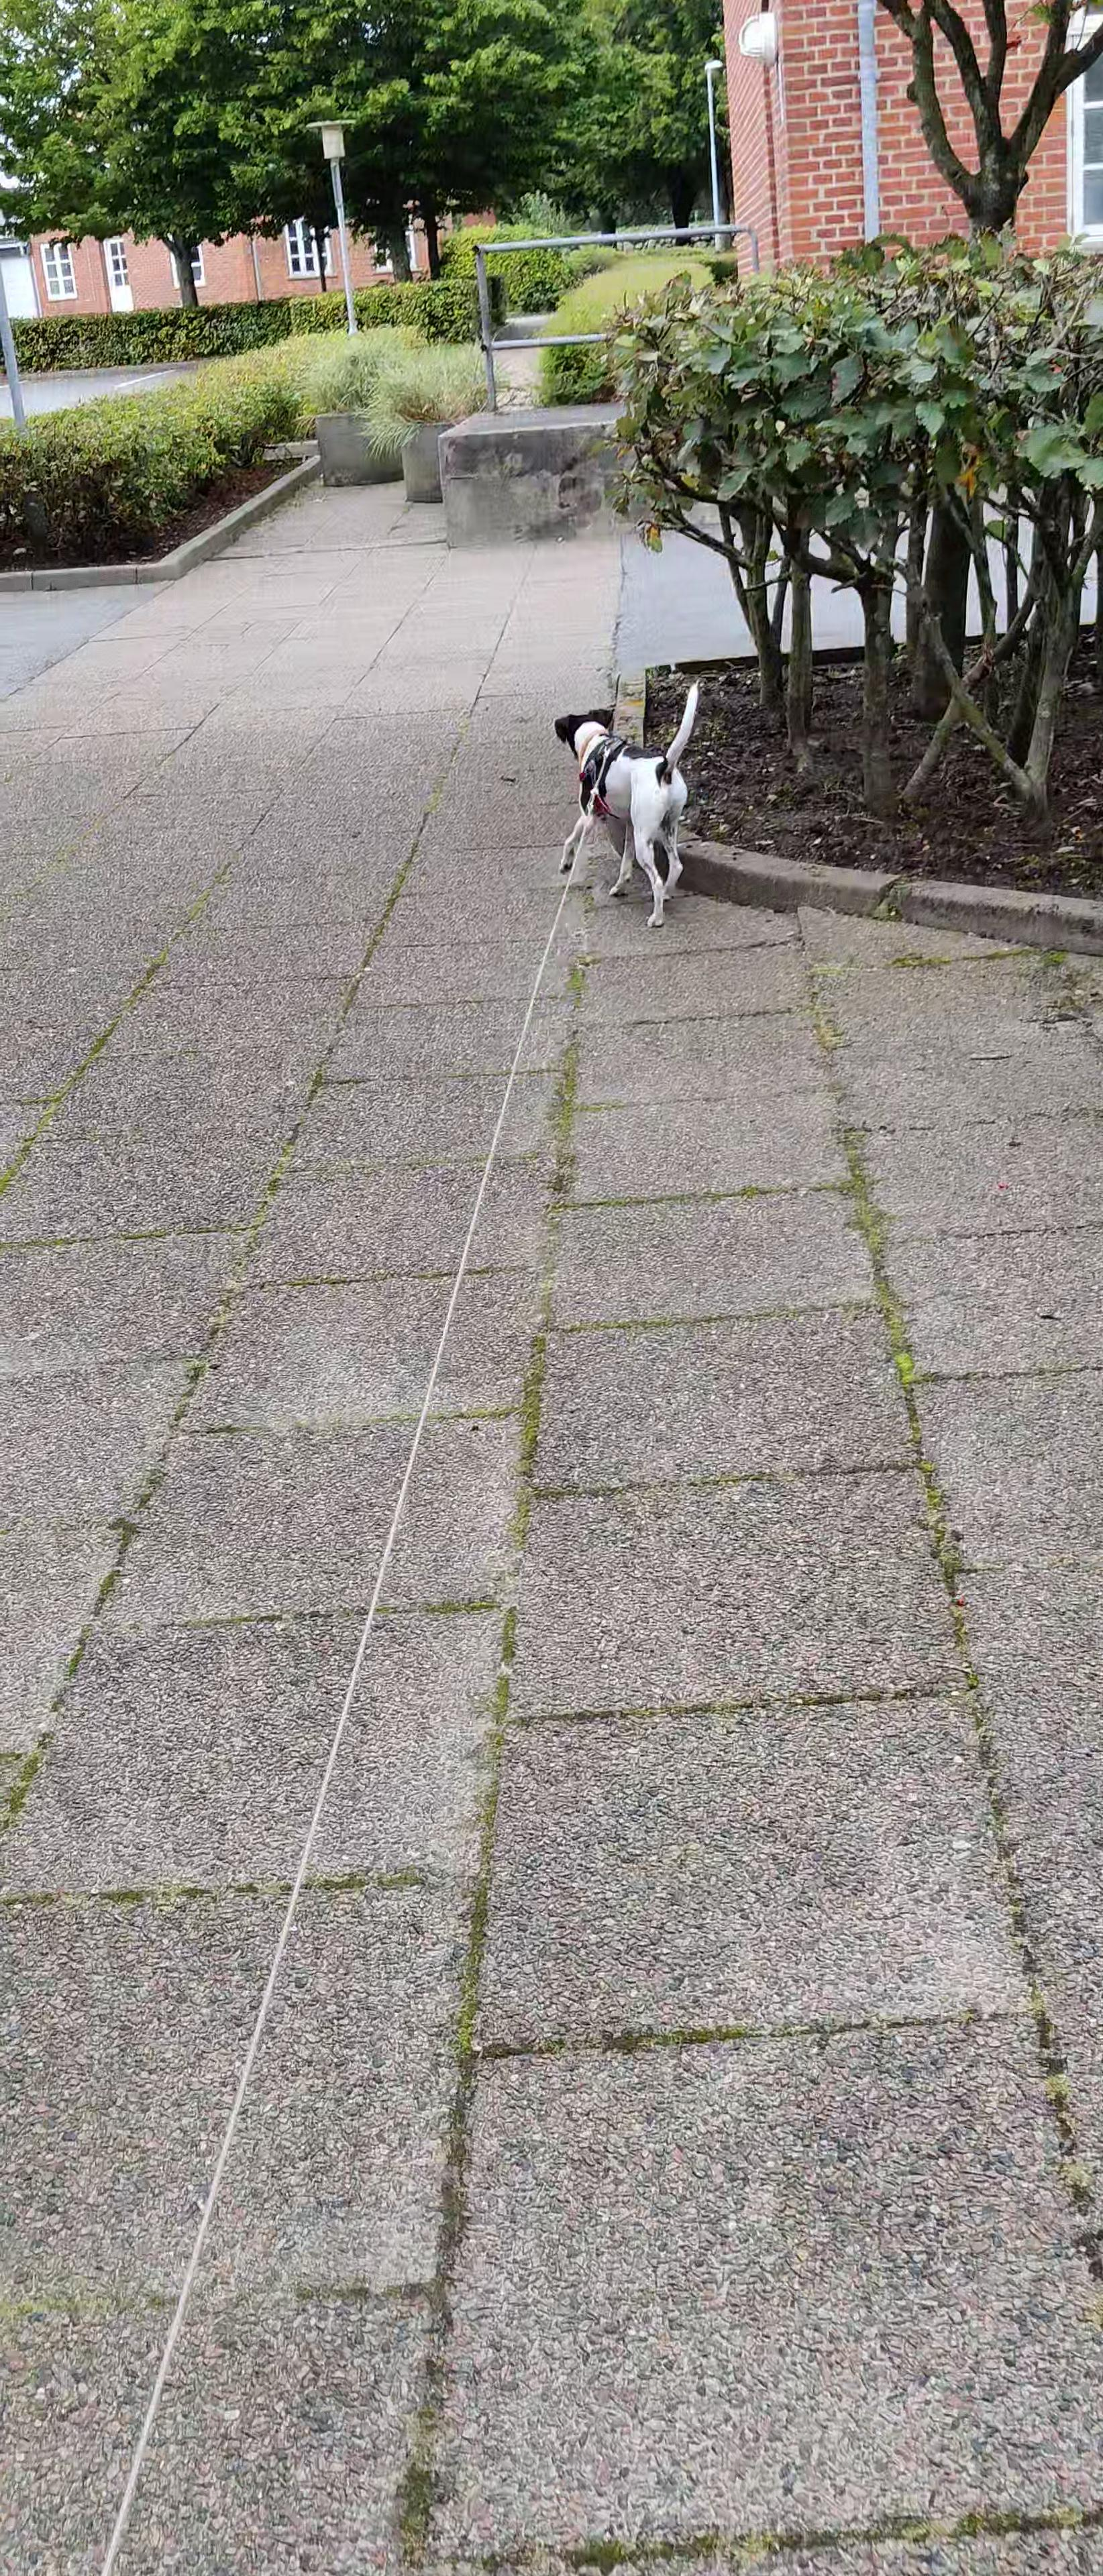Dog: (547, 674, 702, 930)
